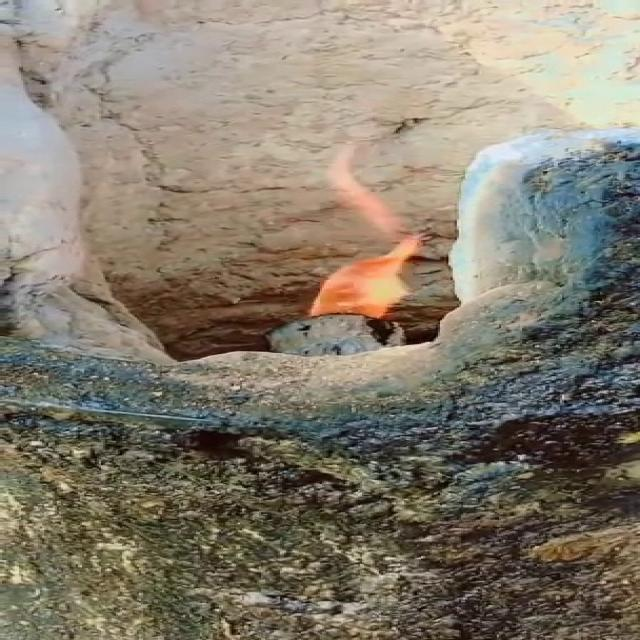Fire: (297, 216, 425, 344)
